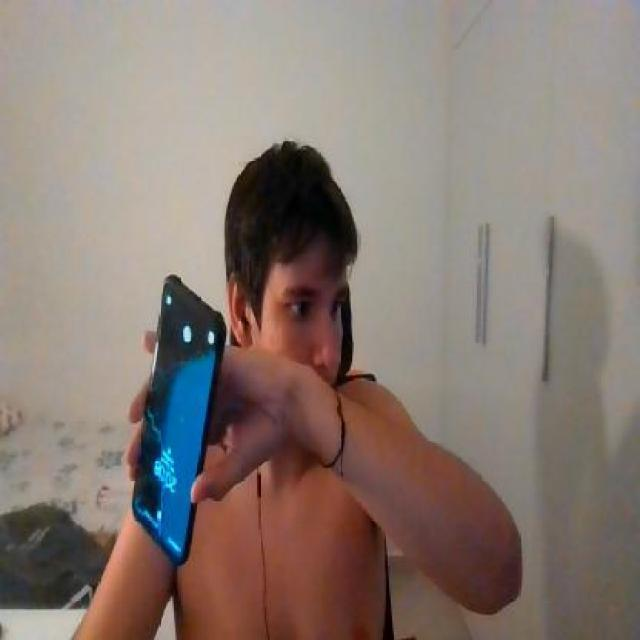phone: (132, 278, 226, 570)
